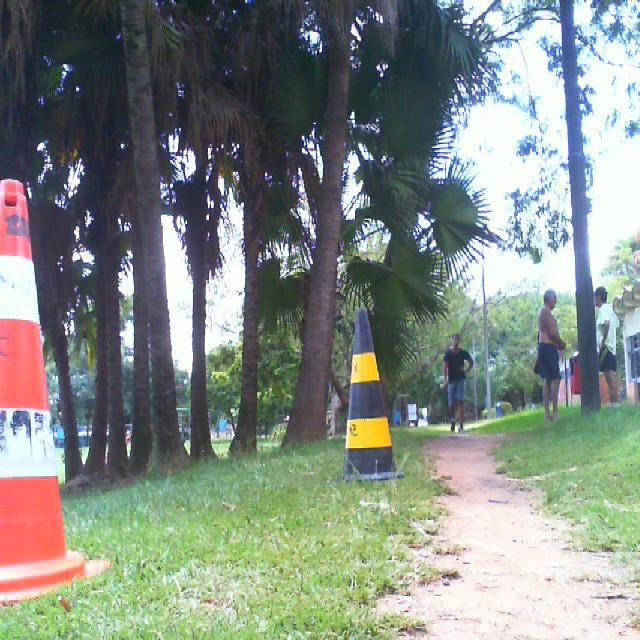cone: (0, 180, 112, 604), (336, 309, 406, 483)
